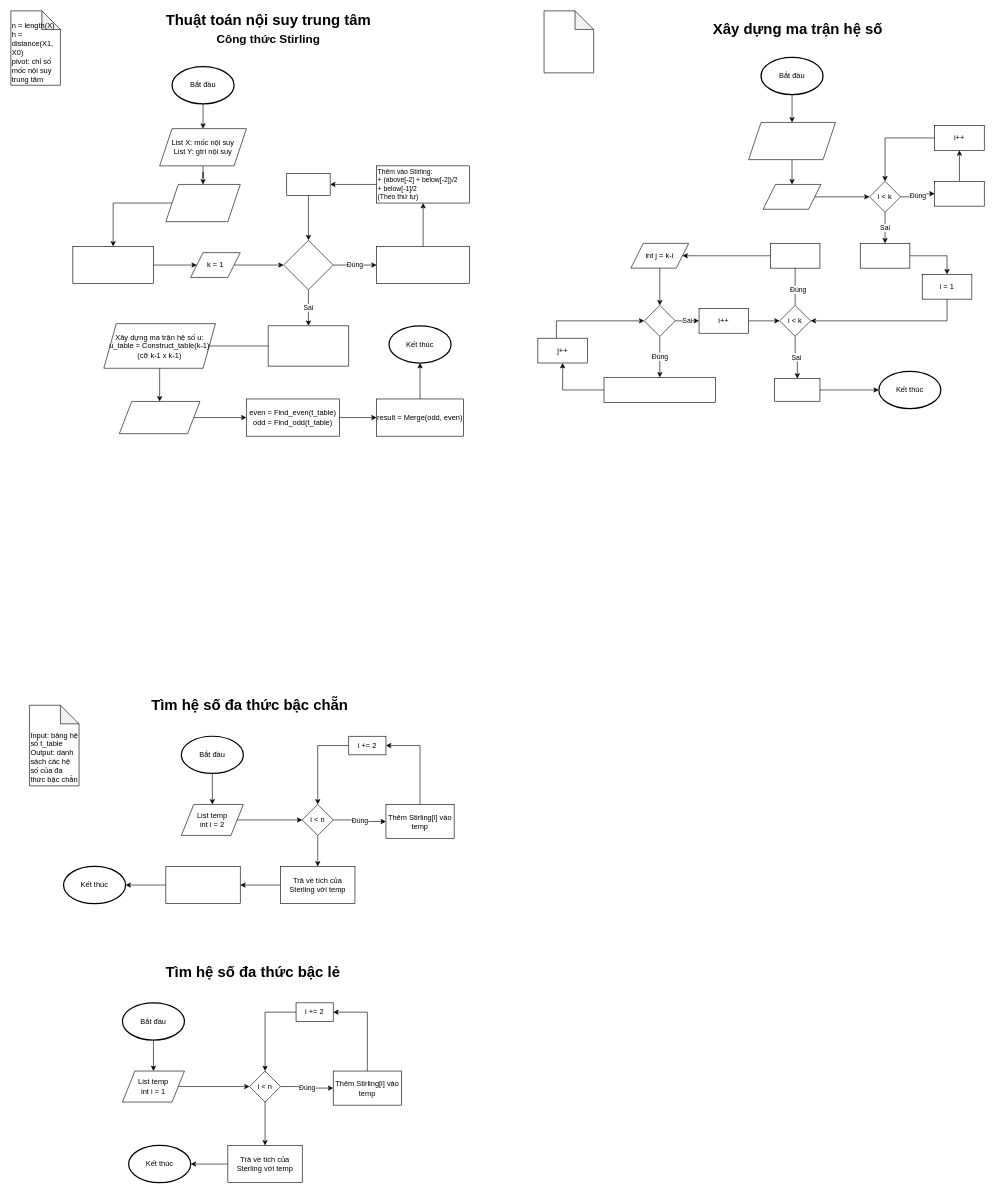
The diagram is 995 pixels wide and 1194 high, and some of its shapes have lost their labels. Each missing label, with the centre of its shape:
+ Mảng 2 chiều a cỡ k x k + Mảng 1 chiều u cỡ k: (x=791, y=141)
a[0][k-1] = 1: (x=885, y=255)
a[i][j] = a[i-1][j+1] - u[i]*a[i-1][j]: (x=659, y=390)
a[i][k-i-1] = 1: (x=795, y=255)
above = Add_above(pivot-k) below = Add_below(pivot+k): (x=423, y=265)
Input: số nguyên k Output: mảng hệ số 2 chiều: (x=568, y=41)
int i = 0: (x=791, y=196)
j < k: (x=659, y=320)
k <= Min(pivot, n-pivot-1): (x=308, y=265)
k++: (x=308, y=184)
List below List above List Stirling: (x=202, y=203)
List even List odd List result: (x=159, y=417)
return a: (x=797, y=389)
Thêm Stirling[0] vào đầu temp: (x=202, y=885)
Thêm Y[pivot] vào (below, above, Stirling): (x=112, y=265)
u[i] = i^2: (x=959, y=193)
Với mỗi phần tử trong Stirling, chia nó cho giai thừa của chỉ số của nó: (x=308, y=345)
